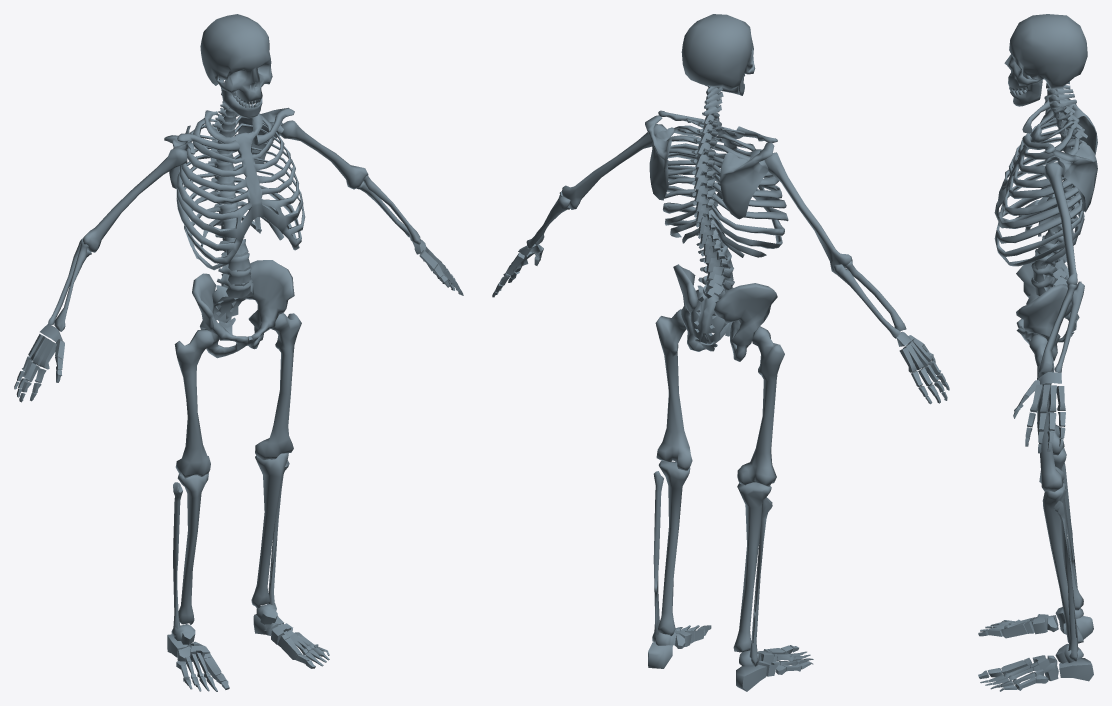
Rendered from Skeleton.obj.
The picture shows the model from 3 angles, left to right: view 1: azimuth 30°, elevation 25°; view 2: azimuth 150°, elevation 25°; view 3: azimuth 270°, elevation 25°; orthographic projection.
Parts seen in each view (by area): view 1: skeleton_footman; view 2: skeleton_footman; view 3: skeleton_footman.
Part boxes in pixels (left/top/right/bottom): skeleton_footman: left=14, top=14, right=463, bottom=691; skeleton_footman: left=492, top=14, right=949, bottom=691; skeleton_footman: left=978, top=14, right=1097, bottom=691.
Size of the model in its own units: 7.18 by 9.87 by 1.68.
